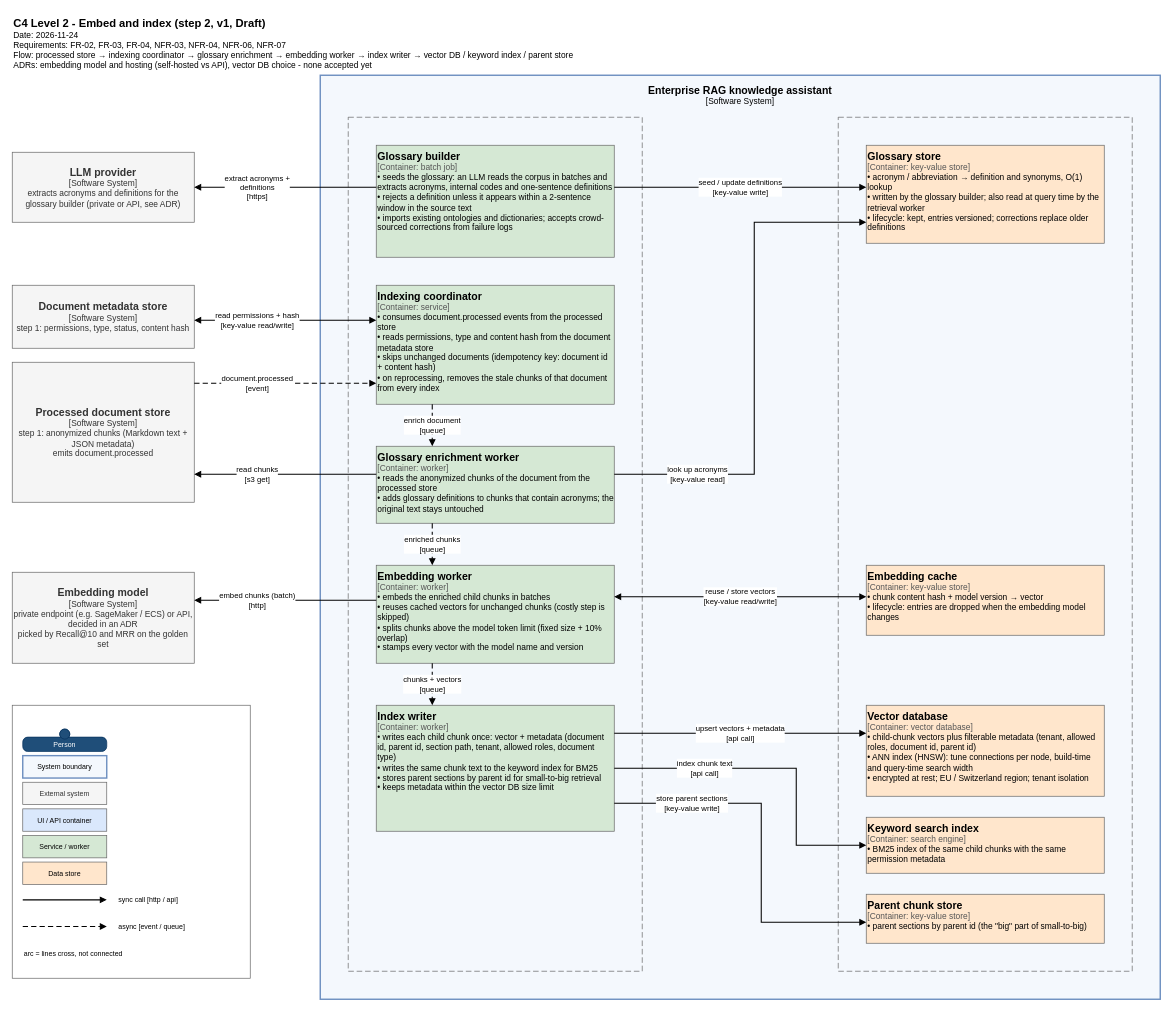
Some shapes in this 1173 by 1012 pixel diagram are drawn without their labels. Each missing label, with the box of its shape:
Backend: (348, 117, 642, 971)
Legend: (12, 705, 250, 978)
Repositories (DBs): (838, 117, 1132, 971)
